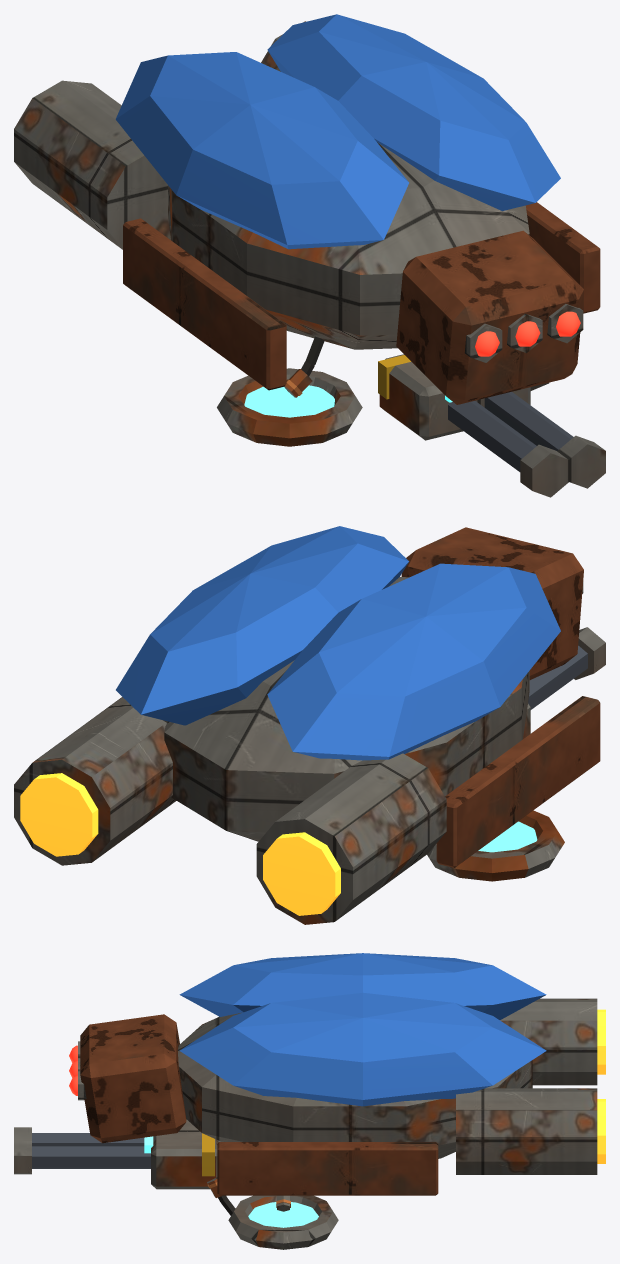
File: coleoptere.glb
3 views of the same model, one above another, from view 1: azimuth 30°, elevation 25°; view 2: azimuth 150°, elevation 25°; view 3: azimuth 270°, elevation 25° (orthographic). The views are drawn at different scales.
Parts seen in each view (by area): view 1: coleoptere; view 2: coleoptere; view 3: coleoptere.
Boxes of the visible parts, x1,y1,x2,y2 form: coleoptere: (14, 14, 605, 497); coleoptere: (14, 526, 605, 924); coleoptere: (14, 953, 605, 1249).
Size of the model in its own units: 0.6702 by 0.5549 by 1.34.
10 materials, 2 textured.
